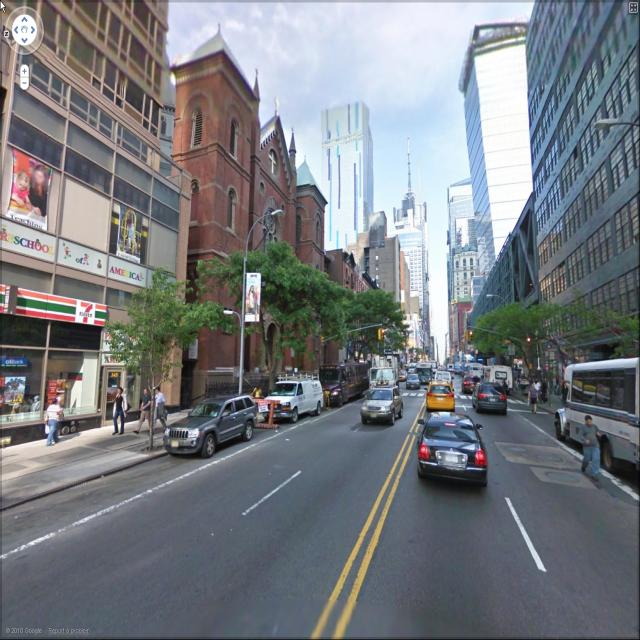b_1: (2, 1, 184, 382), (524, 10, 640, 319), (457, 25, 556, 273), (312, 86, 390, 286), (389, 159, 441, 394), (442, 169, 486, 384)
b_2: (0, 93, 188, 410), (177, 50, 330, 406), (321, 258, 398, 379), (478, 270, 560, 380)
